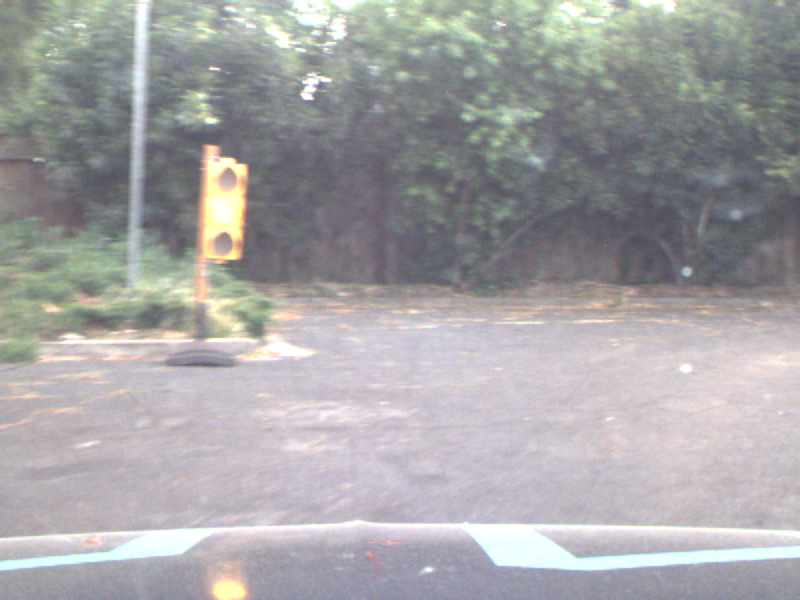Yellow: (204, 160, 243, 260)
